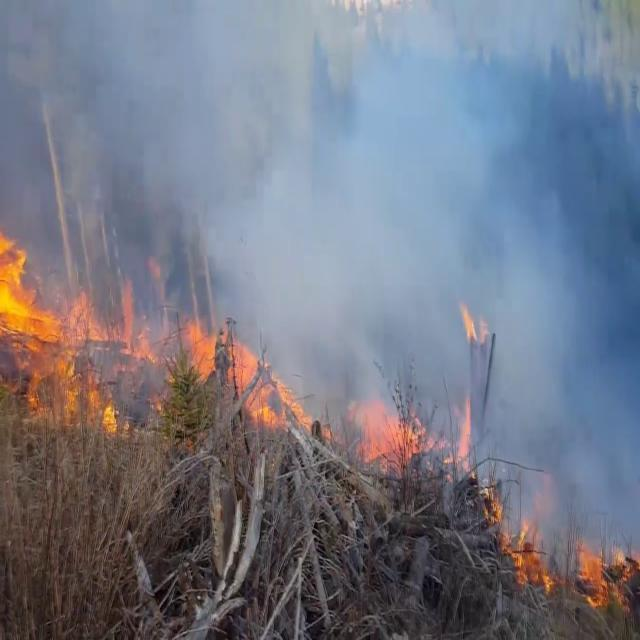Fire: (0, 205, 150, 424), (179, 305, 271, 433), (350, 381, 428, 474), (571, 524, 639, 618), (504, 510, 556, 594)
Smoke: (2, 1, 640, 458)
